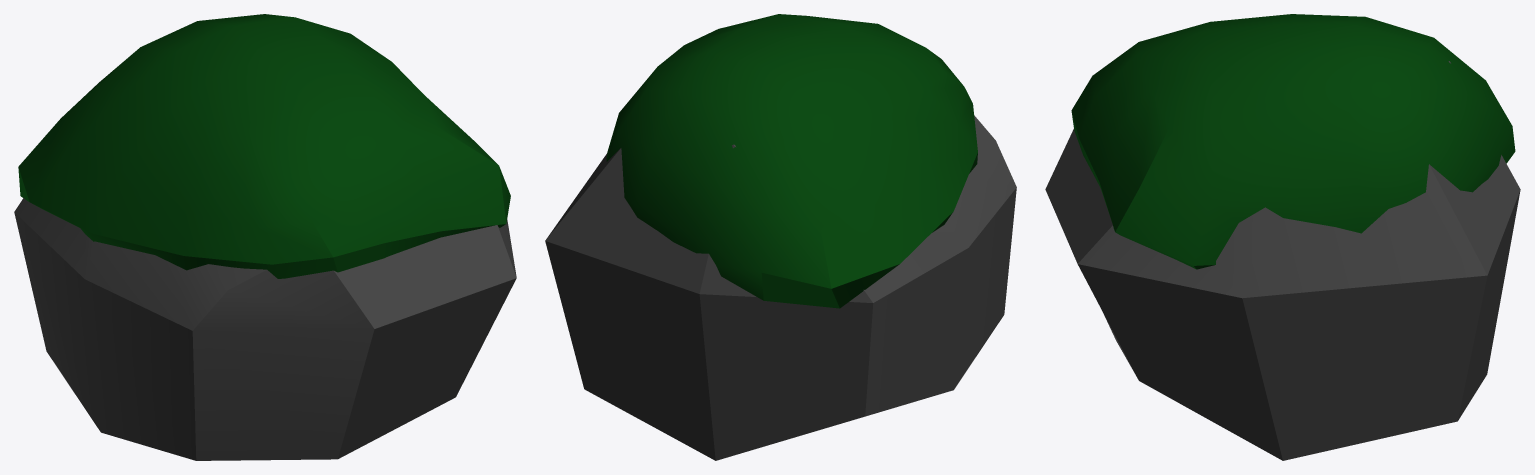
The model's file is moss rock.fbx.
The picture shows the model from 3 angles, left to right: view 1: azimuth 30°, elevation 25°; view 2: azimuth 150°, elevation 25°; view 3: azimuth 270°, elevation 25°; orthographic projection. The views are drawn at different scales.
Parts seen in each view (by area): view 1: Cube; view 2: Cube; view 3: Cube.
Part boxes in pixels (box(x1,y1,x2,y2)): Cube: box(14, 14, 516, 460); Cube: box(545, 14, 1016, 460); Cube: box(1045, 14, 1520, 460).
Size of the model in its own units: 167 by 152 by 180.
